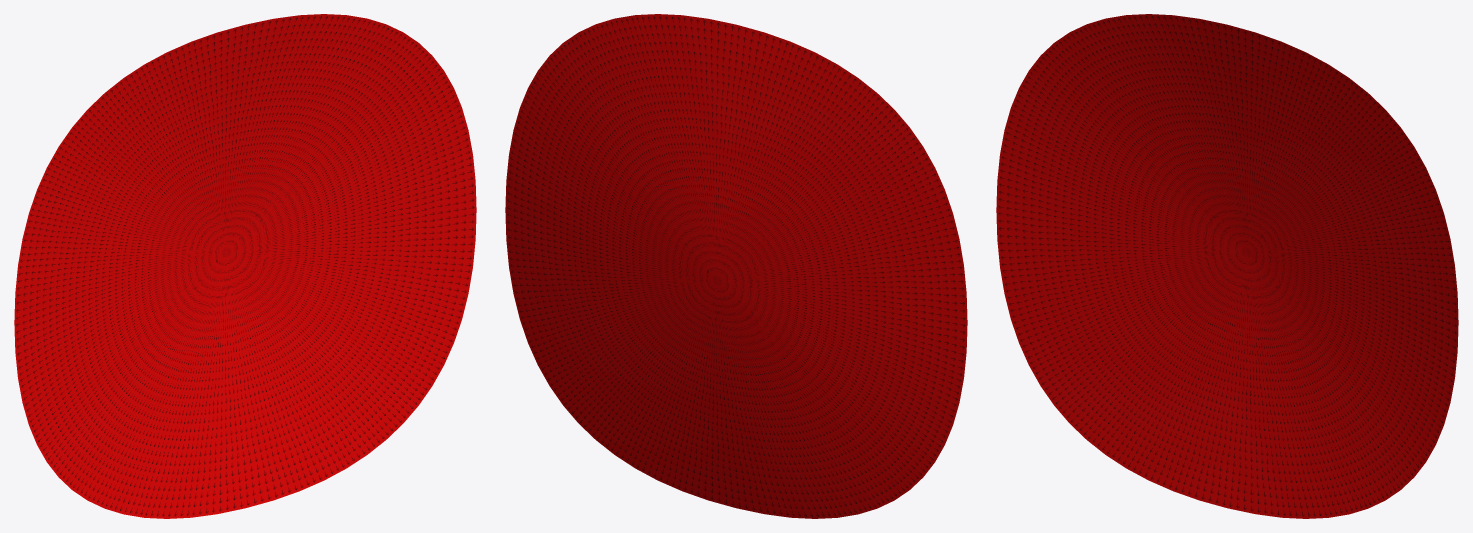
Rendered from skybox_dome.obj.
The picture shows the model from 3 angles, left to right: view 1: azimuth 30°, elevation 25°; view 2: azimuth 150°, elevation 25°; view 3: azimuth 330°, elevation 25°; orthographic projection.
Parts seen in each view (by area): view 1: skybox_dome_half; view 2: skybox_dome_half; view 3: skybox_dome_half.
Part boxes in pixels (box(x1,y1,x2,y2)): skybox_dome_half: box(14, 14, 476, 518); skybox_dome_half: box(505, 14, 967, 518); skybox_dome_half: box(996, 14, 1458, 518).
Size of the model in its own units: 4032 by 4032 by 288.
